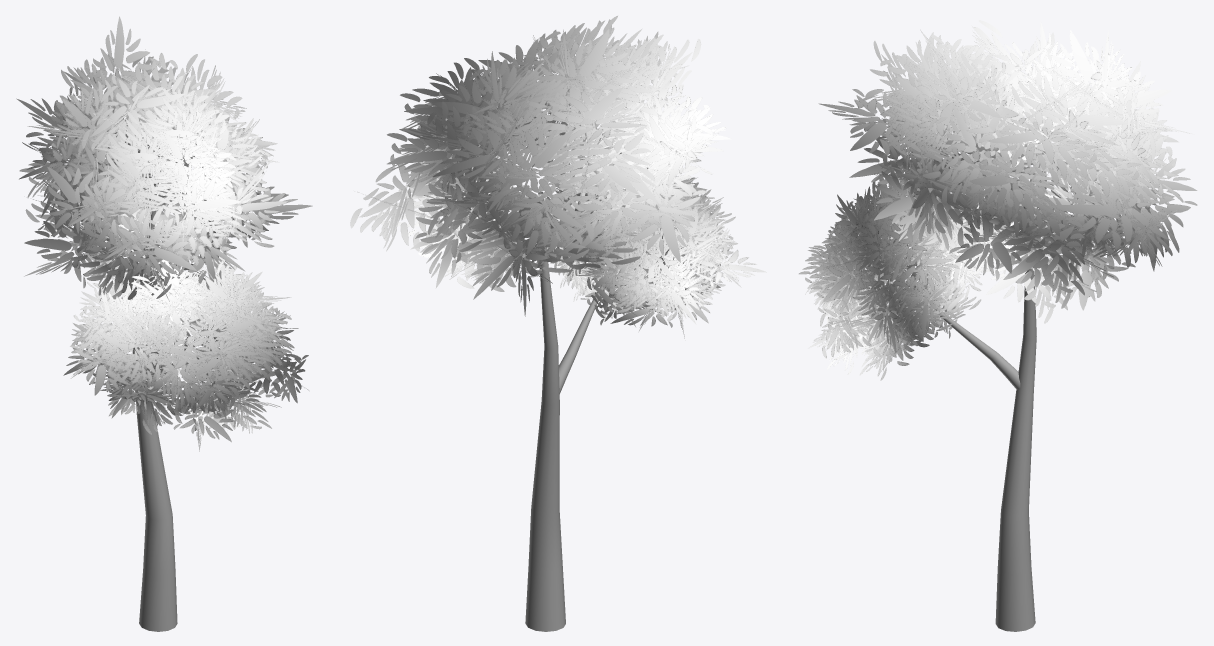
File: ManggoTree1.fbx
3 renders of one model, left to right at view 1: azimuth 30°, elevation 25°; view 2: azimuth 150°, elevation 25°; view 3: azimuth 270°, elevation 25°, orthographic. The views are drawn at different scales.
Parts seen in each view (by area): view 1: ManggoLeaves1LOD0, ManggoTree1LOD0; view 2: ManggoLeaves1LOD0, ManggoTree1LOD0; view 3: ManggoLeaves1LOD0, ManggoTree1LOD0.
Boxes of the visible parts, x1,y1,x2,y2 form: ManggoLeaves1LOD0: (16,16,312,451); ManggoTree1LOD0: (132,208,187,631); ManggoLeaves1LOD0: (350,16,766,338); ManggoTree1LOD0: (525,192,625,631); ManggoLeaves1LOD0: (799,20,1197,380); ManggoTree1LOD0: (903,195,1036,631).
Bounding box in the file's own units: 482 × 936 × 570.
2 materials, 1 textured.
